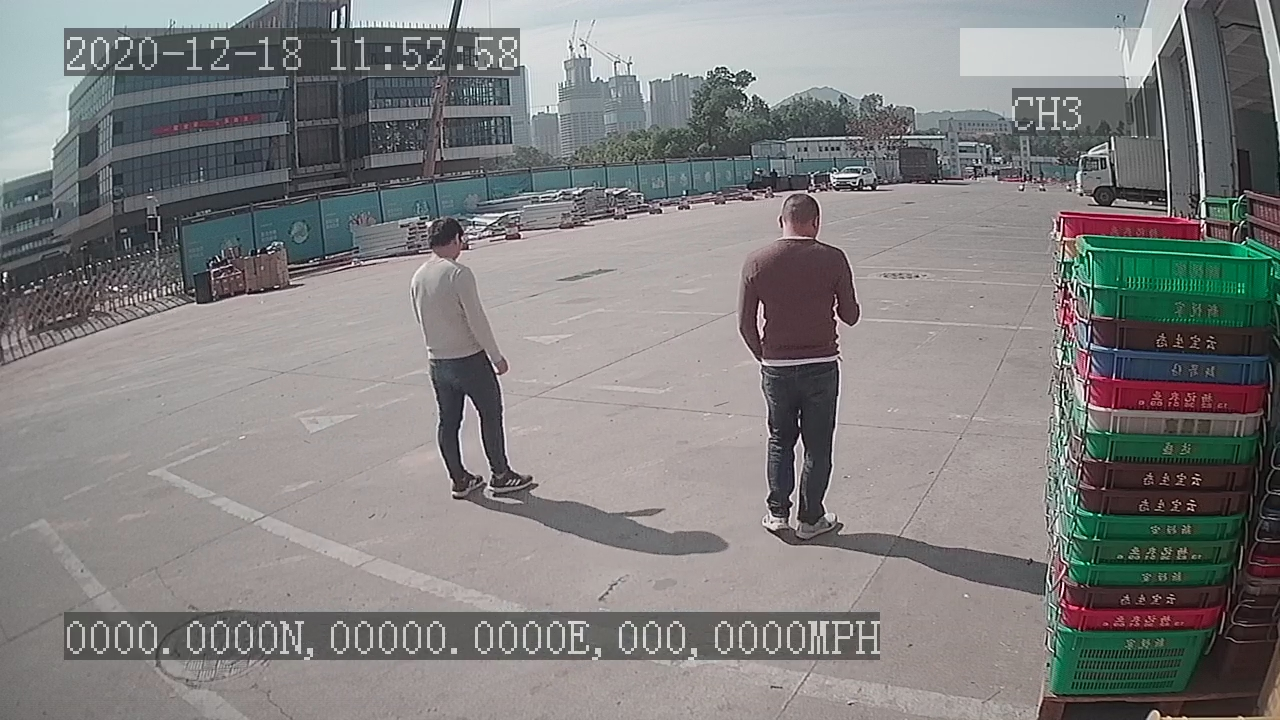person: (720, 185, 867, 551), (402, 211, 542, 506)
